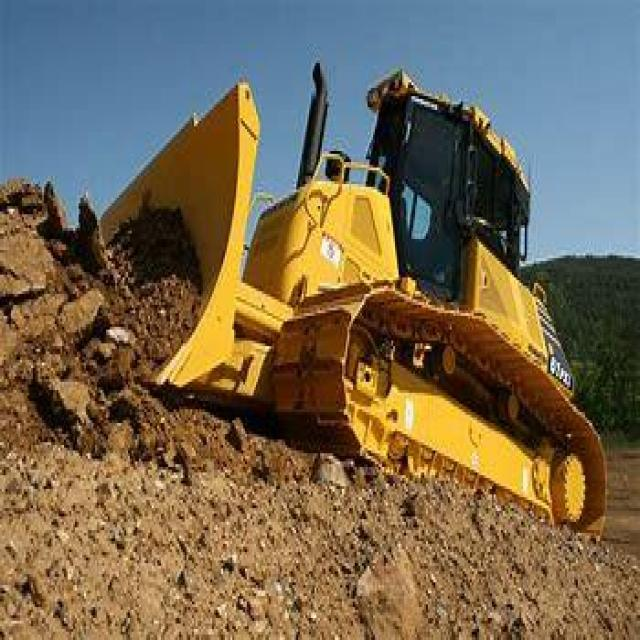buldozerpayloadergrader: (80, 39, 612, 563)
